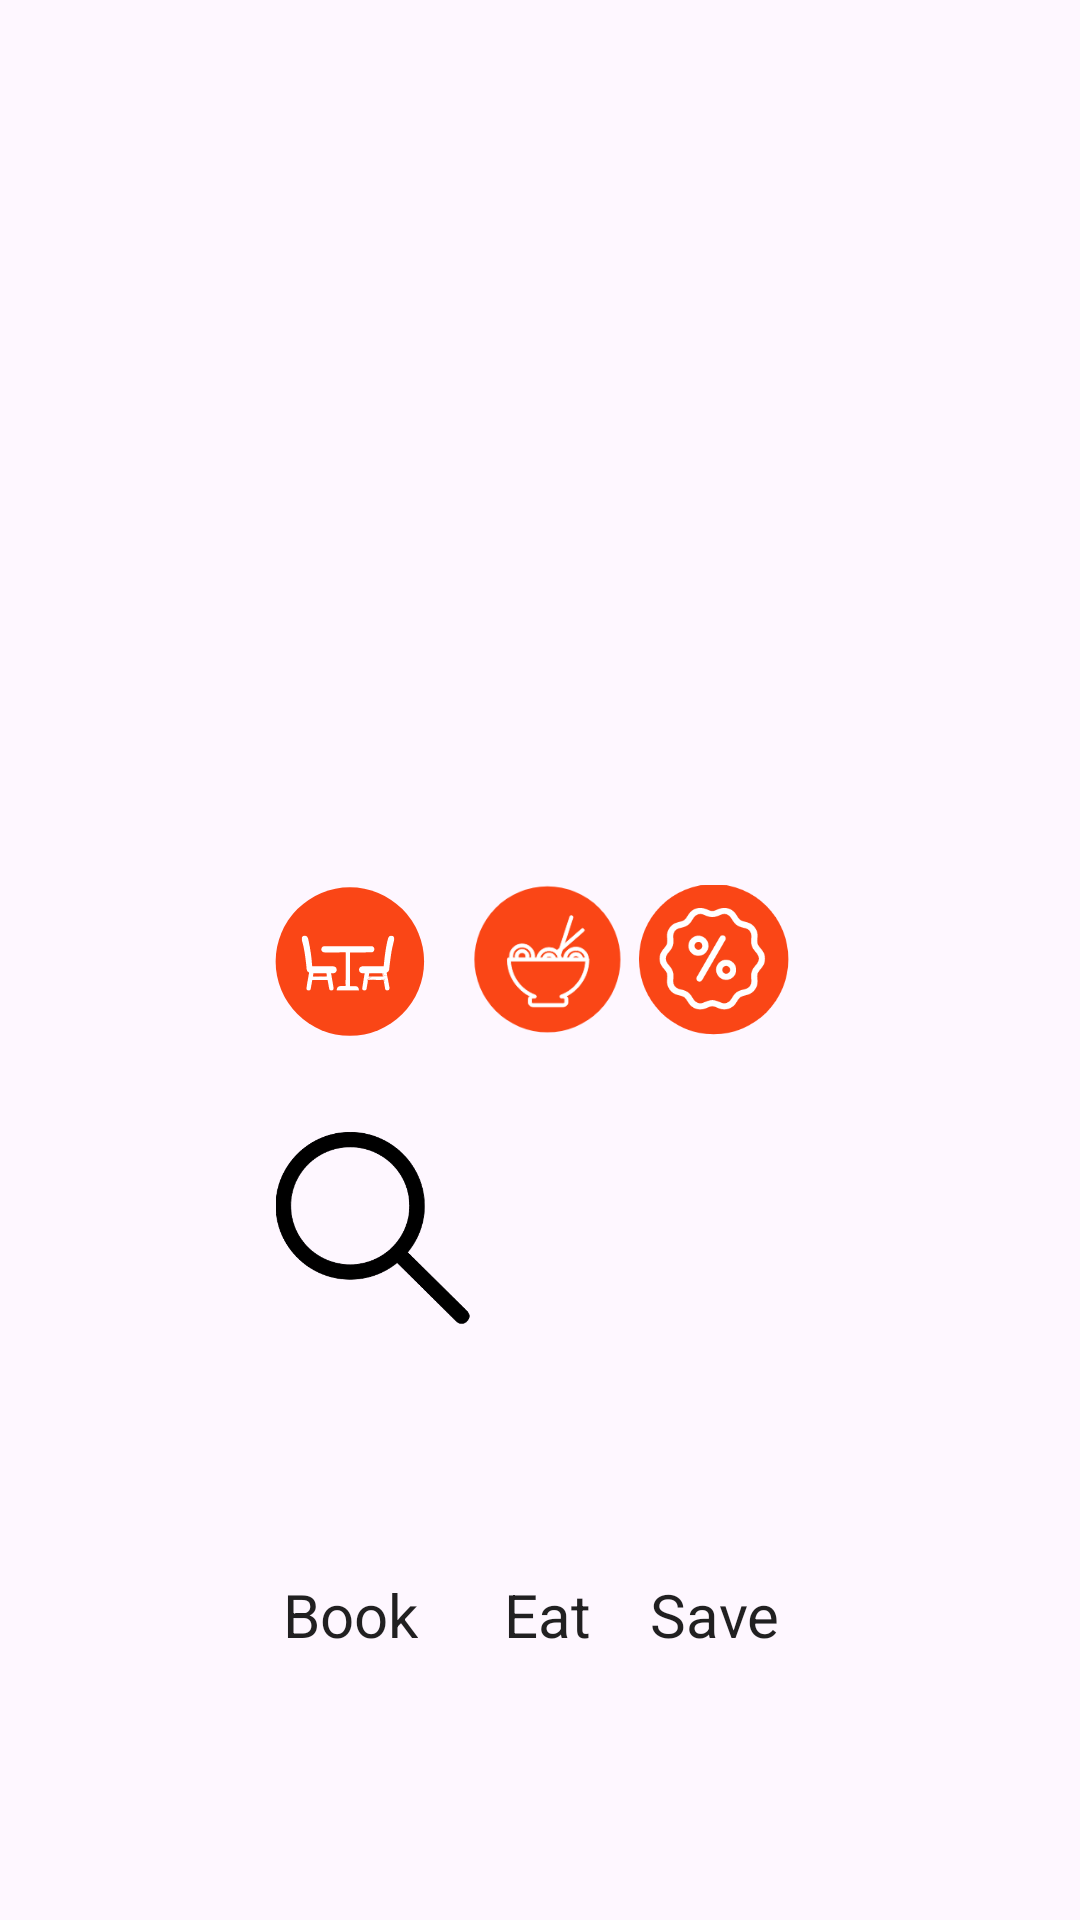

Screen size 1080×1920. Icon name, then its box in pixels as (x1, y1, x2, y2):
launch deal: (639, 885, 789, 1035)
launch food: (474, 886, 621, 1033)
launch table: (275, 887, 424, 1036)
magnifying glass resized: (276, 1132, 470, 1324)
